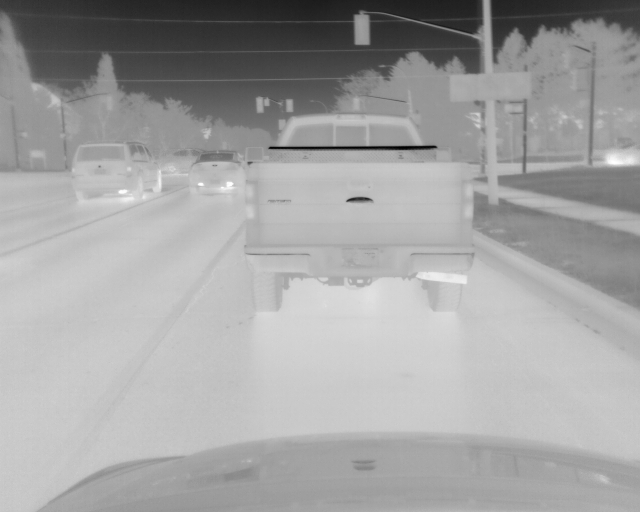car: (241, 112, 477, 315), (71, 140, 162, 200), (187, 149, 251, 197), (157, 147, 203, 174), (606, 140, 640, 165)
